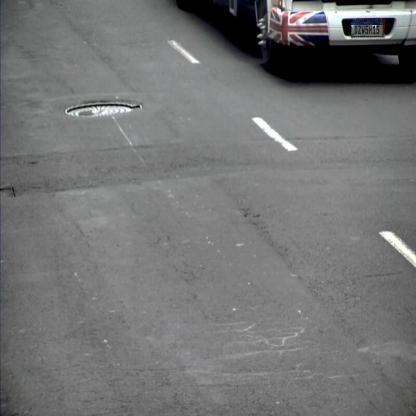PlacaM: (351, 20, 383, 37)
